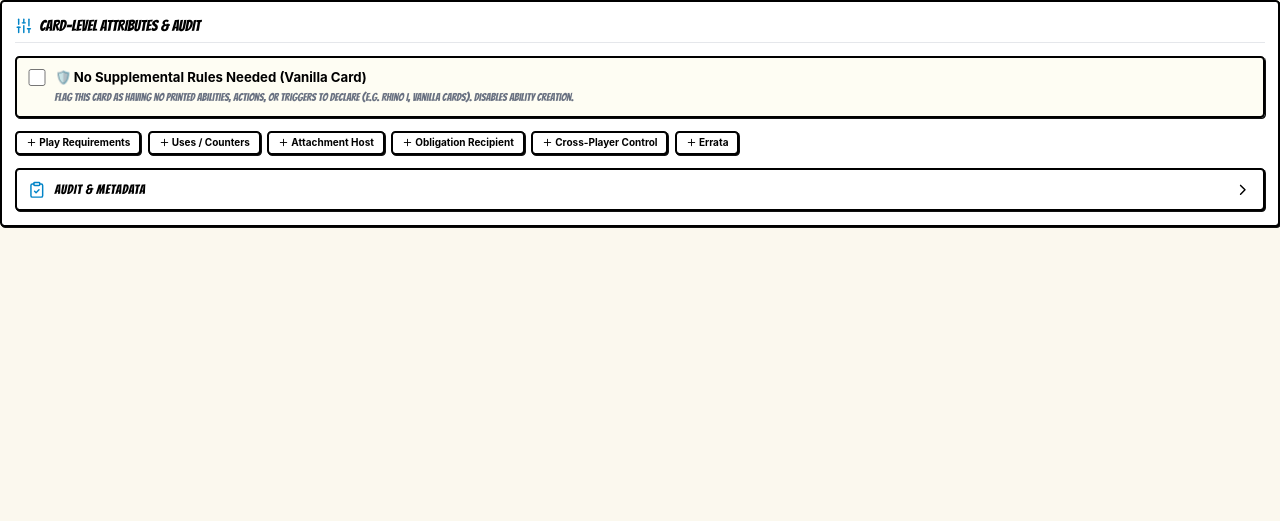
CardAttributesSection card-level chip bar › adding the playRequirements chip writes its default value and renders its form
The width and height of the screenshot is (1280, 521).
Click the button with test id "card-chip-add-playRequirements" at [78, 143], box left=15, top=131, right=141, bottom=155
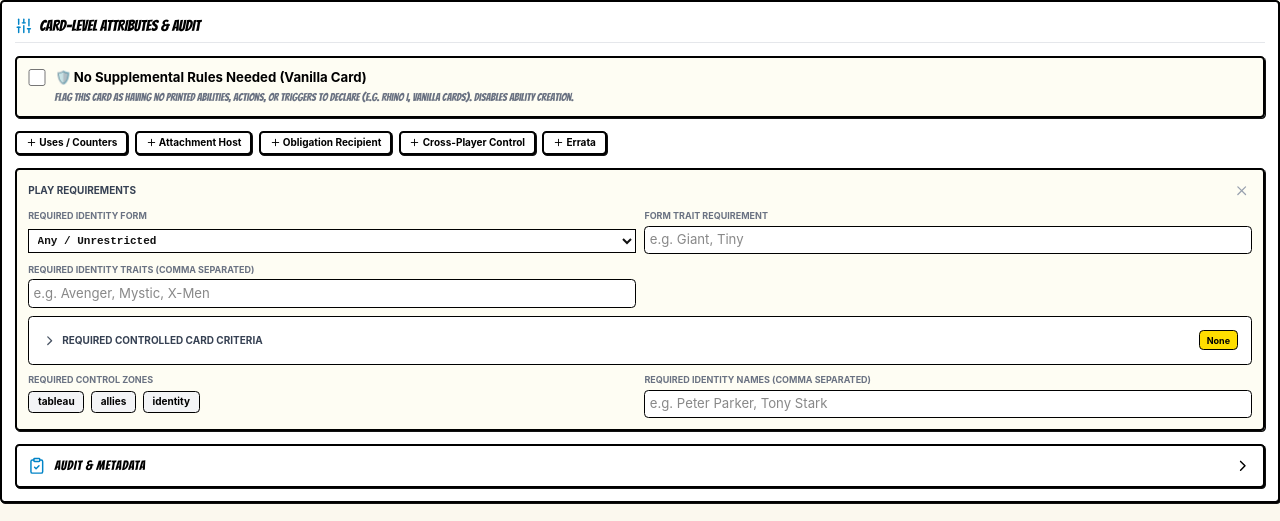
Result: the element with test id "card-section-playRequirements" is shown at left=15, top=168, right=1265, bottom=431
Result: the button with test id "card-chip-add-playRequirements" is gone
